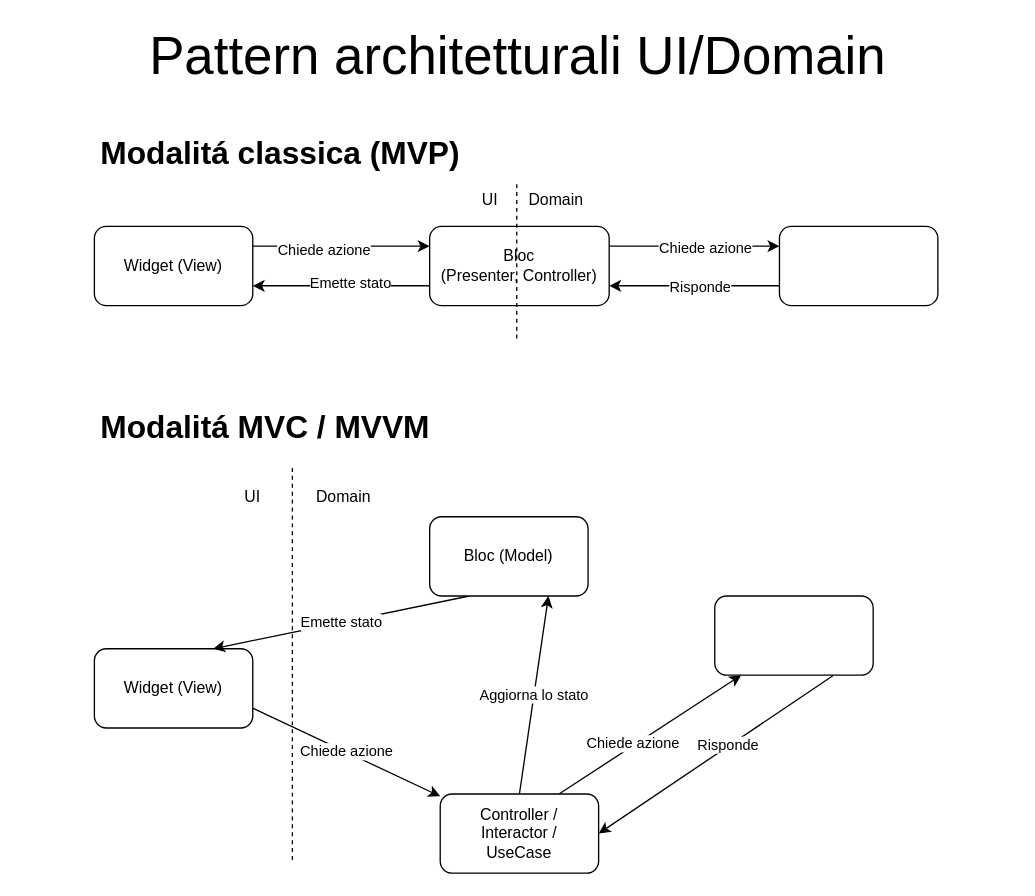
Image size: 1035x896. Some labels were removed from this diagram. Each missing label, with the centre of its shape:
Repository: (793,635)
Repository (Model): (858,265)
